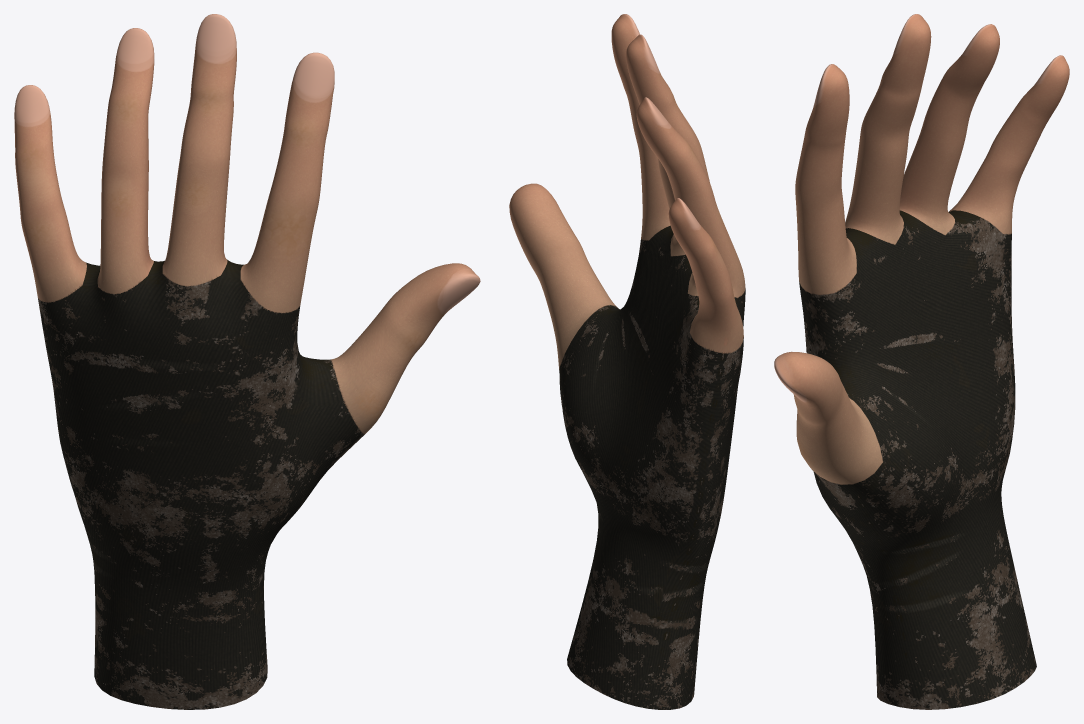
File: MANO_L.fbx
3 renders of one model, left to right at view 1: azimuth 30°, elevation 25°; view 2: azimuth 150°, elevation 25°; view 3: azimuth 270°, elevation 25°, orthographic. The views are drawn at different scales.
Parts seen in each view (by area): view 1: MANO_L; view 2: MANO_L; view 3: MANO_L.
Boxes of the visible parts, left/top/right/bottom form: MANO_L: left=14, top=14, right=480, bottom=709; MANO_L: left=509, top=14, right=745, bottom=709; MANO_L: left=774, top=14, right=1069, bottom=709.
Size of the model in its own units: 55.56 by 105 by 41.1.
